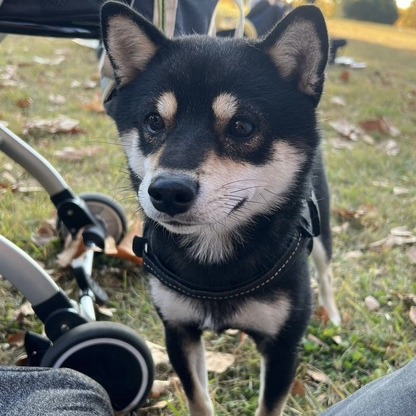shiba: (92, 2, 355, 416)
